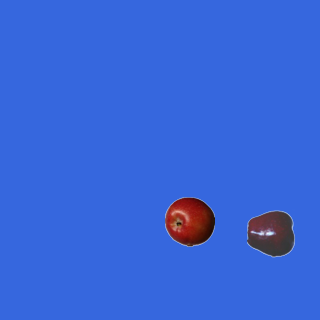Apple Braeburn: (164, 196, 214, 246)
Apple Red Delicious: (246, 208, 296, 258)
